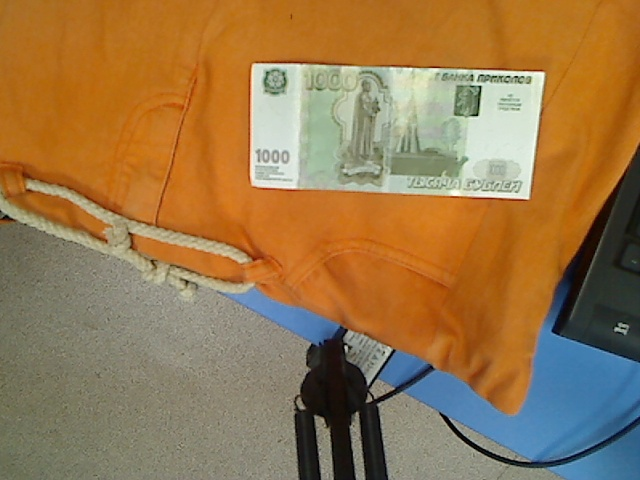banknotes: (246, 59, 544, 206)
